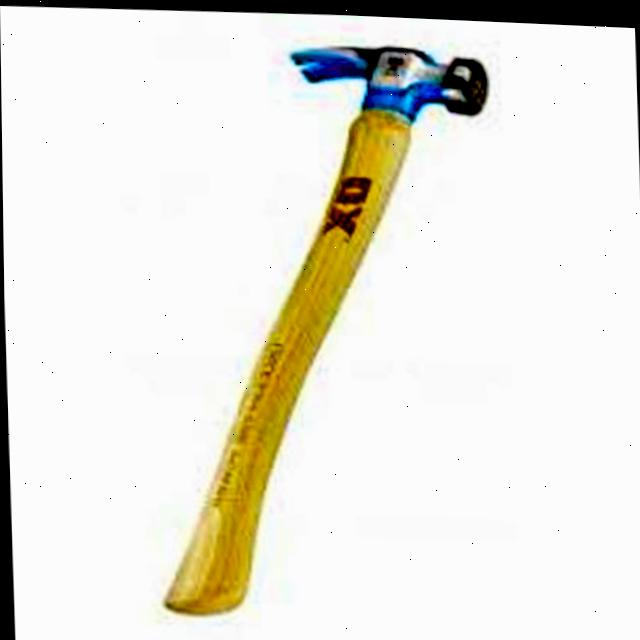hammer: (125, 16, 513, 628)
